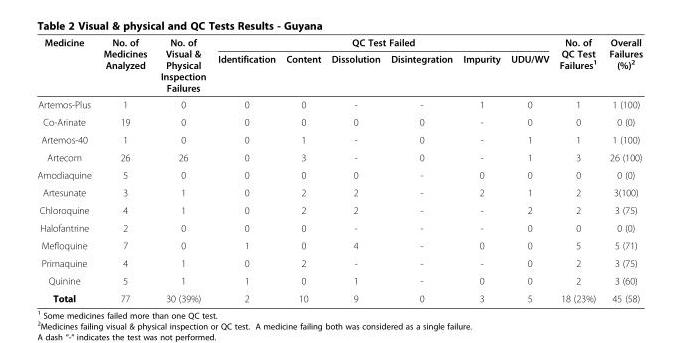table: (36, 36, 642, 303)
table column: (384, 36, 457, 303), (211, 36, 280, 303), (36, 36, 96, 303), (325, 36, 384, 303), (153, 36, 211, 303), (96, 36, 153, 303), (504, 36, 553, 303), (553, 36, 602, 303), (457, 36, 504, 303), (280, 36, 325, 303), (602, 36, 642, 303)
table column header: (36, 36, 642, 95)
table row: (36, 50, 642, 95), (36, 112, 642, 130), (36, 130, 642, 148), (36, 165, 642, 183), (36, 183, 642, 201), (36, 218, 642, 236), (36, 236, 642, 254), (36, 271, 642, 289), (36, 95, 642, 112), (36, 148, 642, 165), (36, 201, 642, 218), (36, 254, 642, 271), (36, 36, 642, 50), (36, 289, 642, 303)
table spanning cell: (211, 36, 553, 50), (36, 36, 96, 95), (153, 36, 211, 95), (96, 36, 153, 95), (553, 36, 602, 95), (602, 36, 642, 95)
